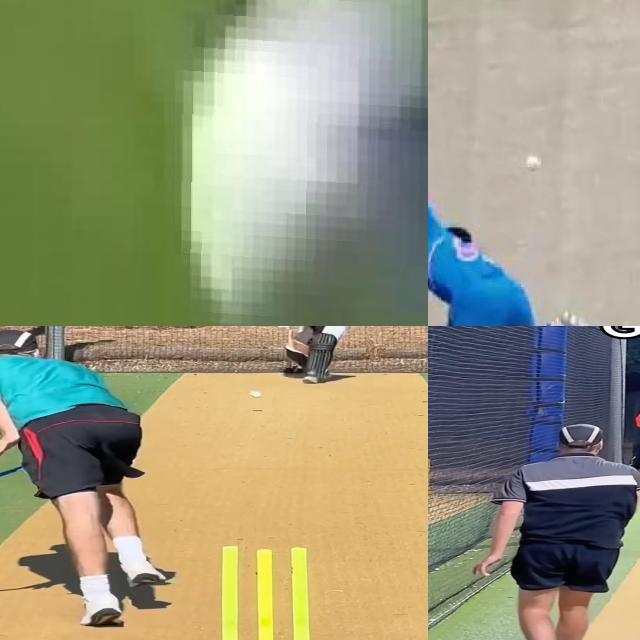Cricket ball: (181, 0, 428, 326), (524, 154, 543, 172), (246, 389, 266, 399)
Stumps: (201, 545, 333, 640)
